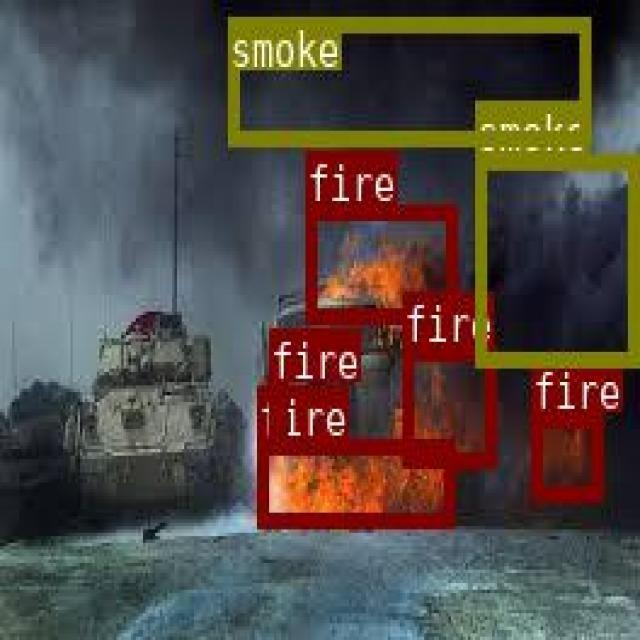fire: (304, 203, 456, 320), (257, 437, 452, 524), (401, 344, 493, 463), (531, 412, 601, 498), (267, 381, 285, 431)
smoke: (226, 16, 587, 142), (474, 153, 635, 362)
